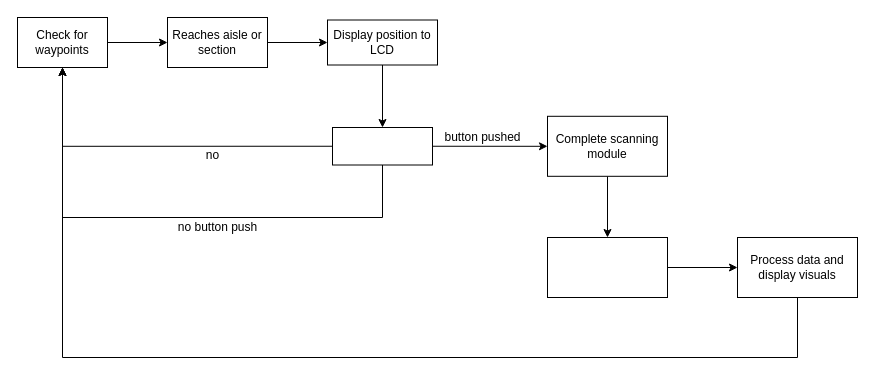
Image size: 875x383. Some labels were removed from this diagram. Each missing label, with the box of its shape:
In a section: (332, 126, 432, 165)
Serialise and send data to python: (546, 236, 668, 298)
